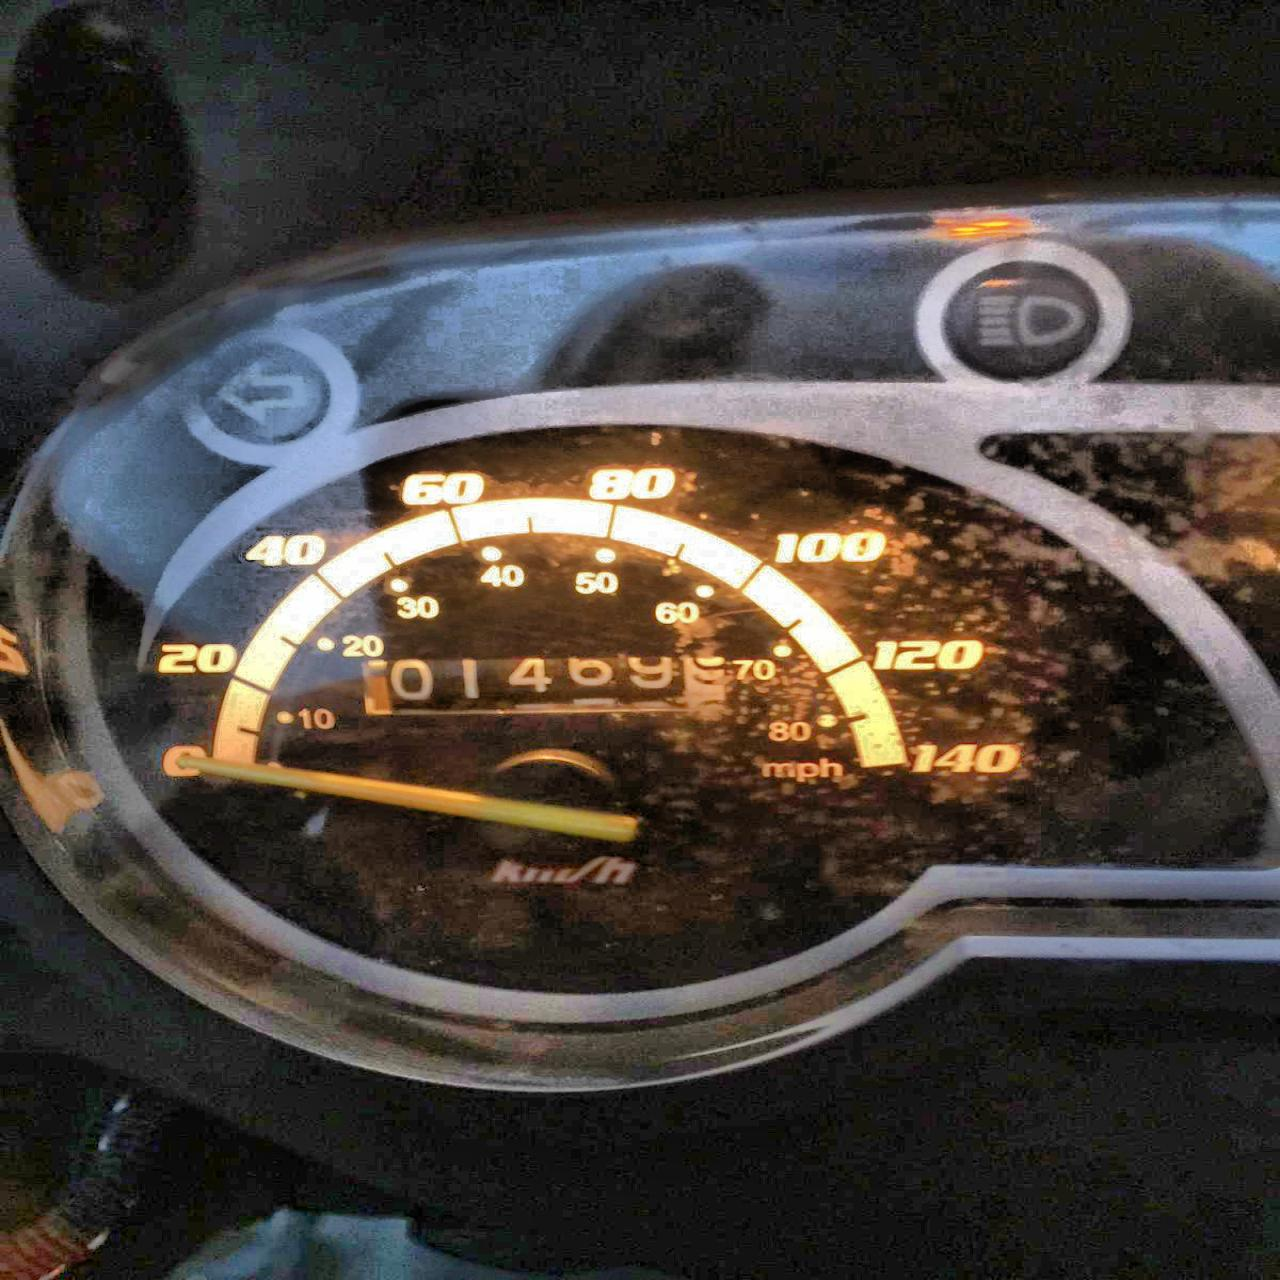0: (384, 656, 436, 702)
1: (454, 654, 483, 703)
4: (504, 654, 554, 695)
6: (566, 649, 619, 693)
9: (628, 653, 678, 690), (688, 653, 730, 693)
odometer: (359, 647, 735, 727)
